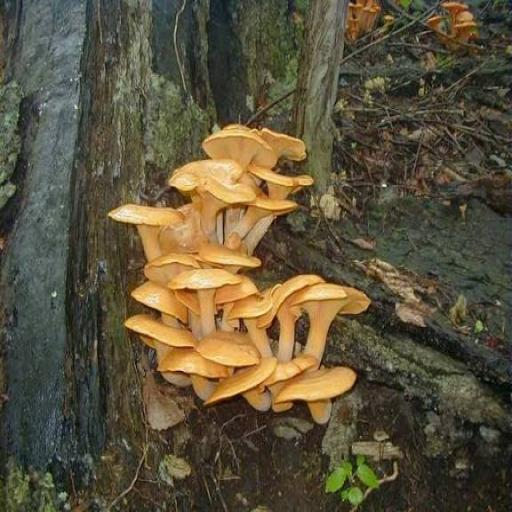Jack O Lantern Mushroom: (172, 156, 252, 245), (290, 269, 365, 358), (205, 351, 290, 427), (277, 356, 361, 431), (215, 279, 281, 374), (259, 272, 322, 361), (155, 347, 237, 413), (102, 199, 190, 258), (171, 267, 238, 337), (200, 116, 267, 178), (187, 230, 261, 283), (125, 312, 201, 357), (243, 158, 307, 210), (129, 273, 191, 325), (251, 117, 308, 173), (213, 277, 260, 330)
